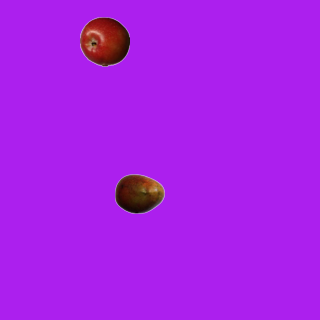Apple Braeburn: (79, 16, 129, 66)
Mango Red: (114, 168, 164, 218)
